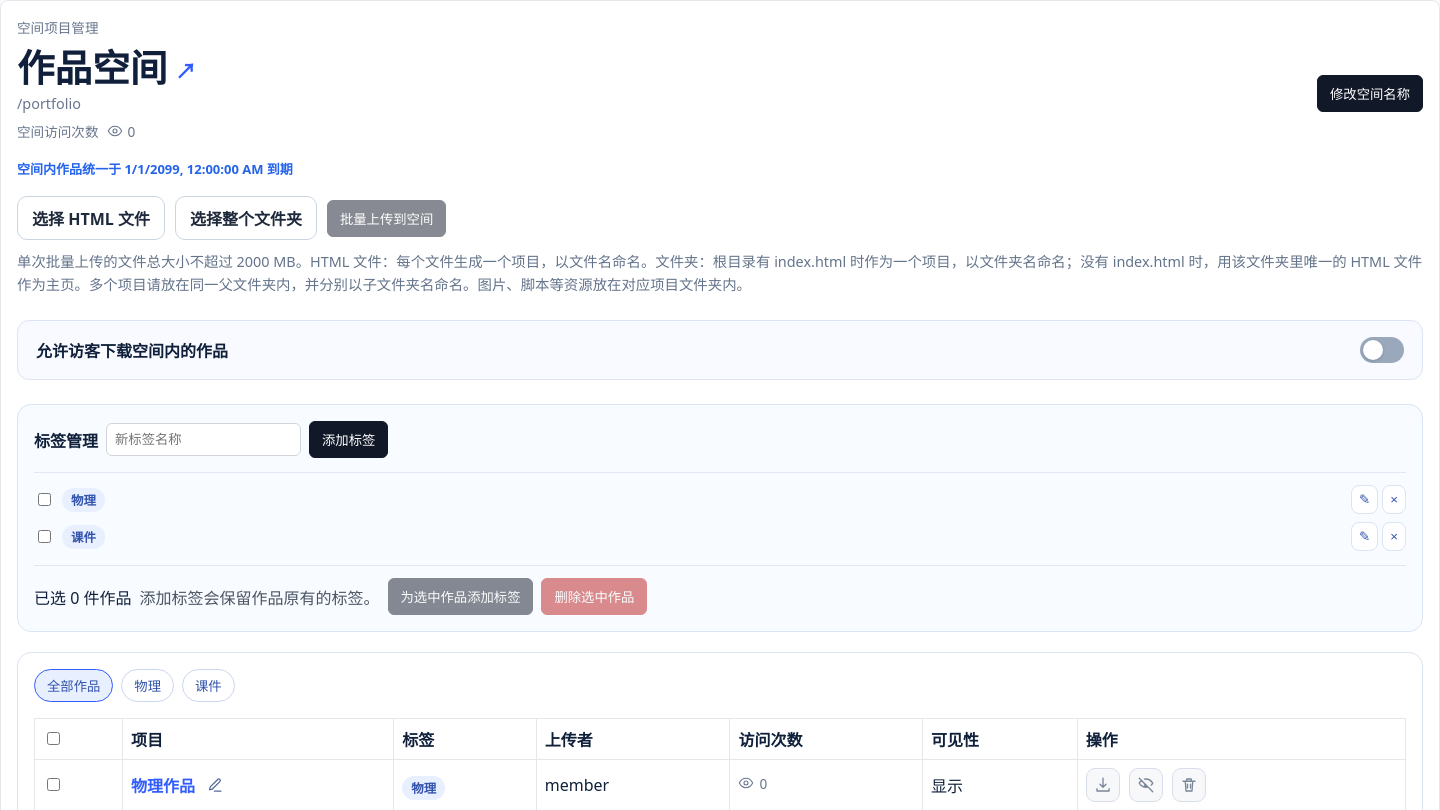
Test case: SpacePage › keeps single-tag filtering with the works table
Click the button "物理" at (148,686), box [121,669,174,702]
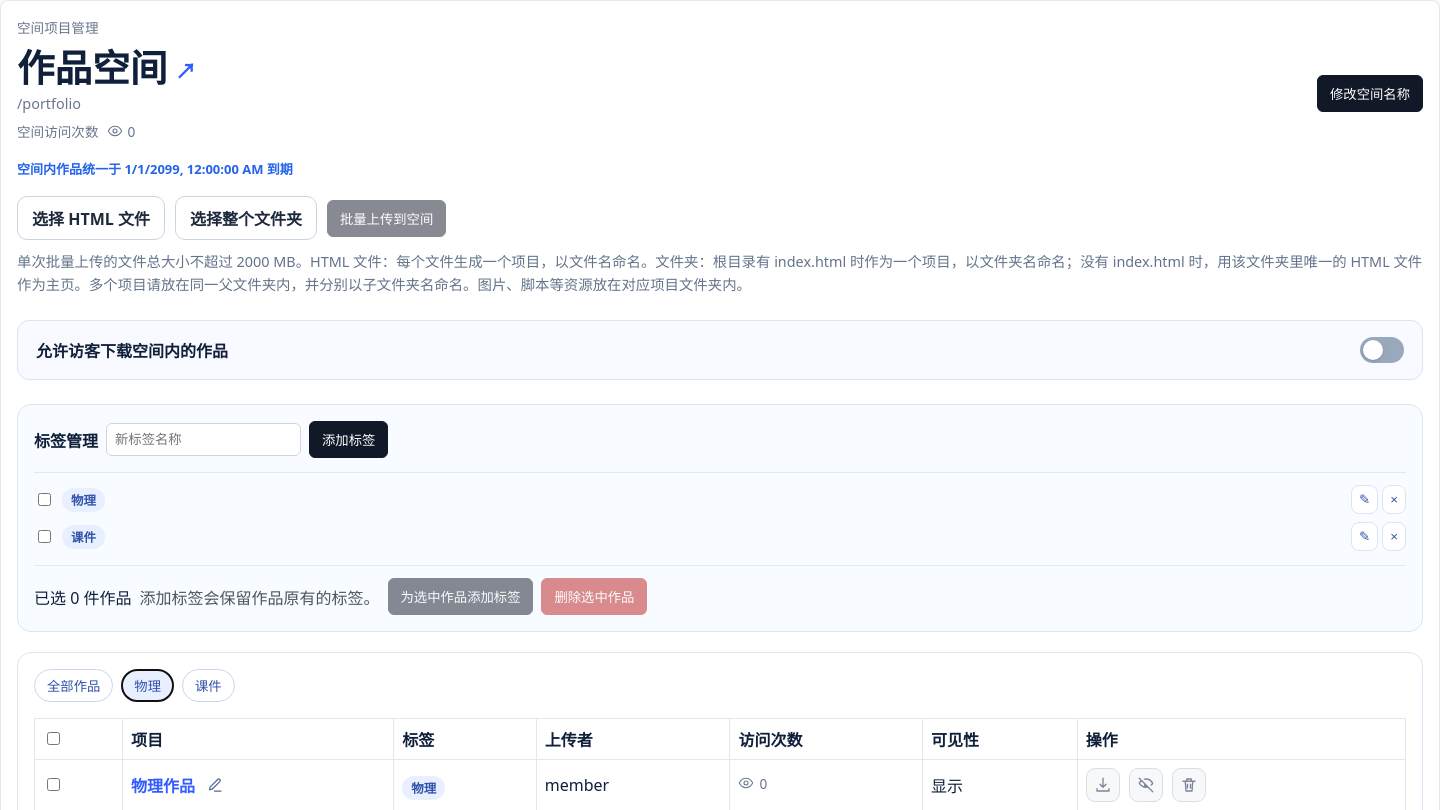
Check: the link "物理作品" is shown, box [131,773,195,797]
Check: the table "课件作品" is not shown
Click the button "课件" at (208,686), box [182,669,235,702]
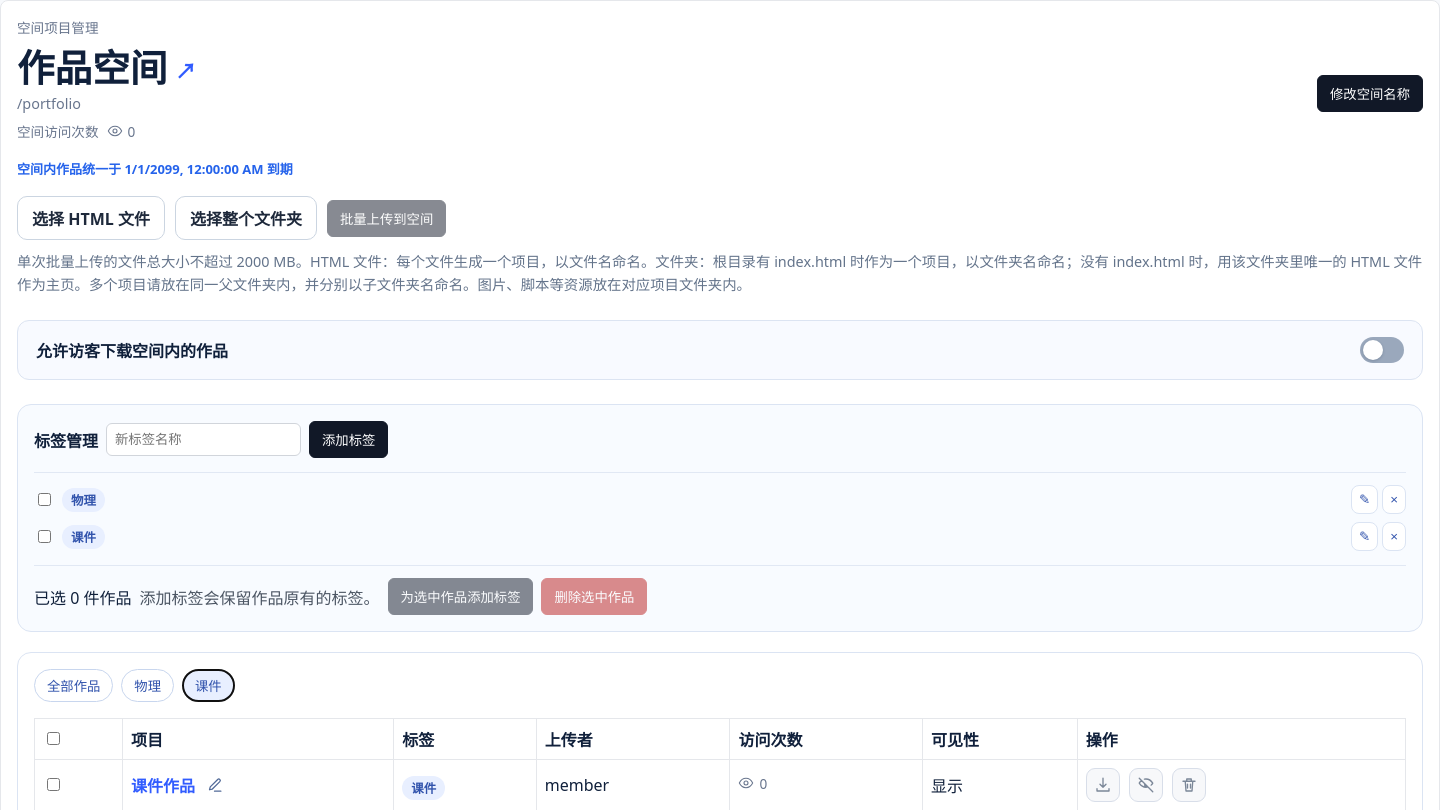
Check: the link "物理作品" is gone
Check: the link "课件作品" is shown, box [131,773,195,797]
